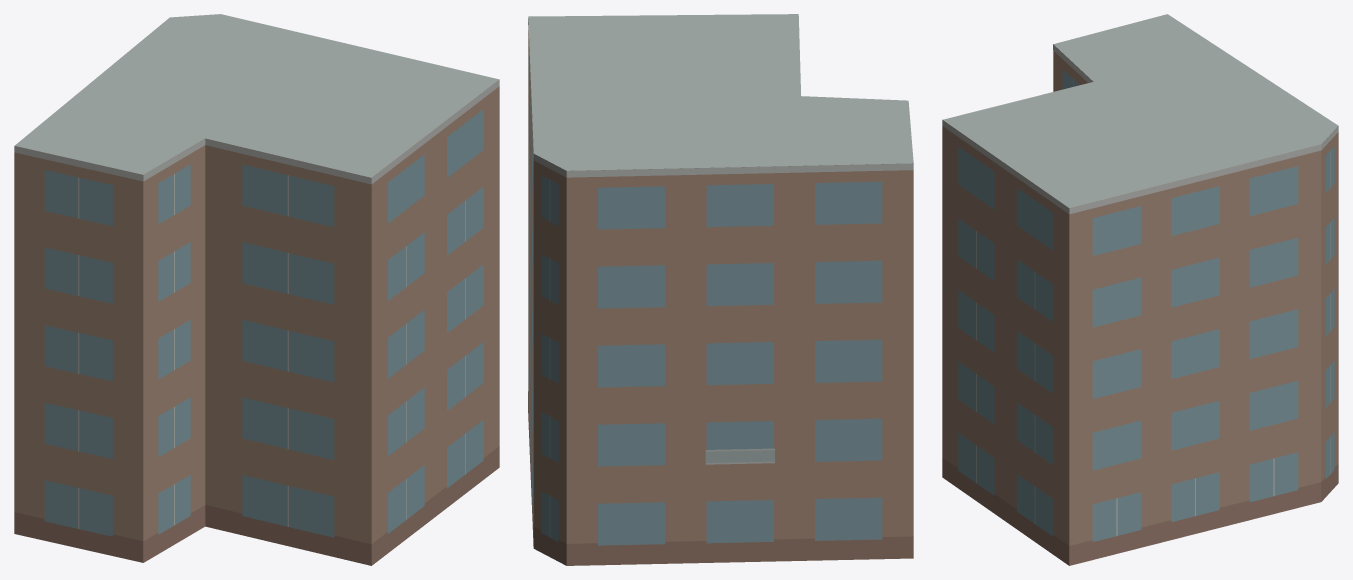
The model's file is survey-upis-32631720.glb.
3 renders of one model, left to right at view 1: azimuth 30°, elevation 25°; view 2: azimuth 150°, elevation 25°; view 3: azimuth 270°, elevation 25°, orthographic. The views are drawn at different scales.
Visible parts, largest first — view 1: survey-upis-32631720.tmp; view 2: survey-upis-32631720.tmp; view 3: survey-upis-32631720.tmp.
Part boxes in pixels (x1,y1,x2,y2): survey-upis-32631720.tmp: [14, 14, 499, 565]; survey-upis-32631720.tmp: [528, 14, 913, 565]; survey-upis-32631720.tmp: [942, 14, 1338, 565].
Bounding box in the file's own units: 16.67 × 14.3 × 14.36.
